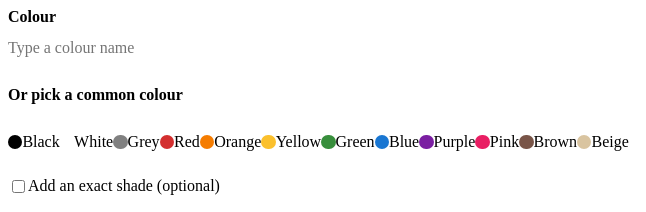
Test: ColorValueInput › a palette tap adds the colour with the palette's shade when it is new, as a pending swatch
Step 1. Click the button "Blue" → (397,142), box [375,120,419,164]
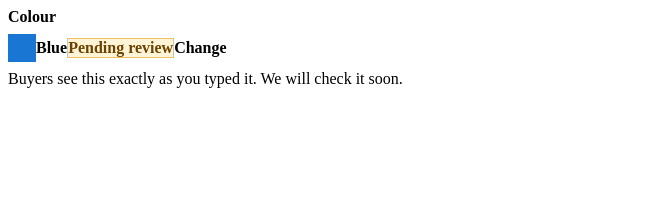
Check: the element with test id "value-chip" shows "Pending review", box [68,39,173,56]
